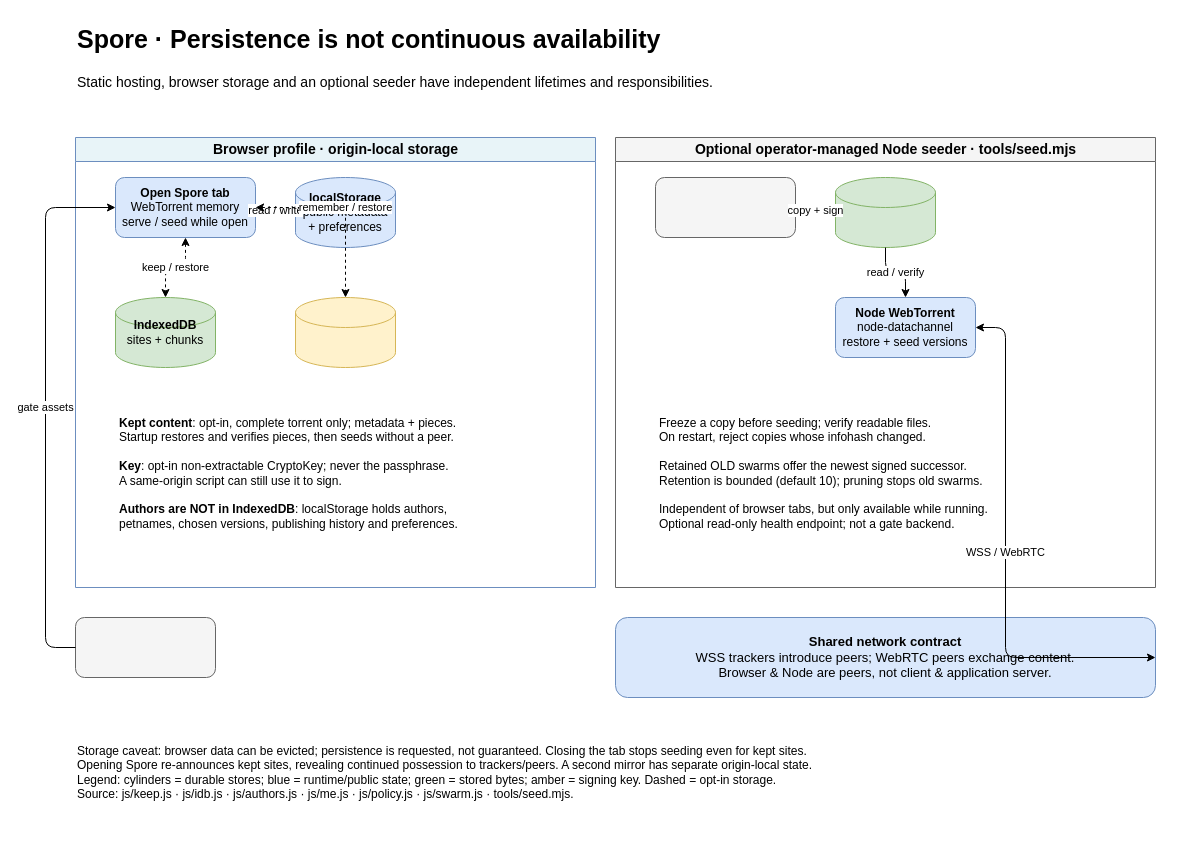
Image size: 1182x854. Some labels were removed from this diagram. The shapes that lost their labels are listed below. From the top down, each one's centre as x and y in pixels, then its label:
At point 725,207: "Live site folder poll for edits optional passphrase".
At point 885,212: "Frozen versions versions/seq/ + versions.json".
At point 345,332: "IndexedDB keys".
At point 145,647: "Any static HTTPS host gate assets, not sites relative mirror paths".
